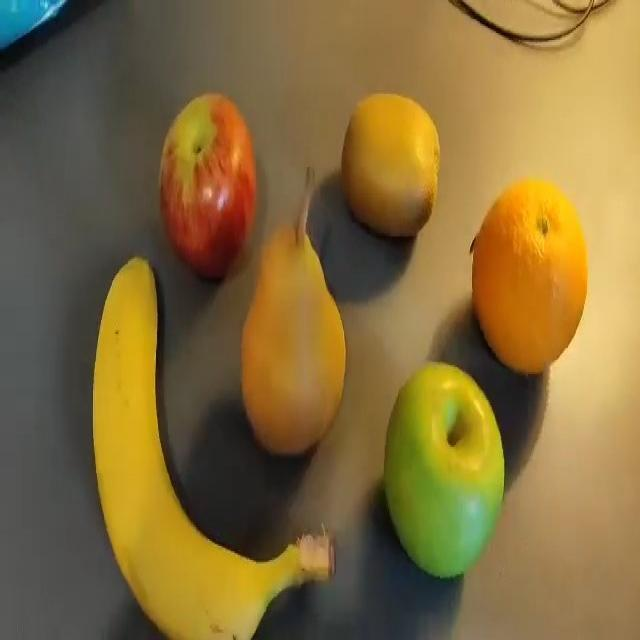Apple: (382, 360, 505, 579), (158, 91, 257, 281)
Banana: (91, 255, 335, 639)
Orange: (469, 177, 588, 375)
